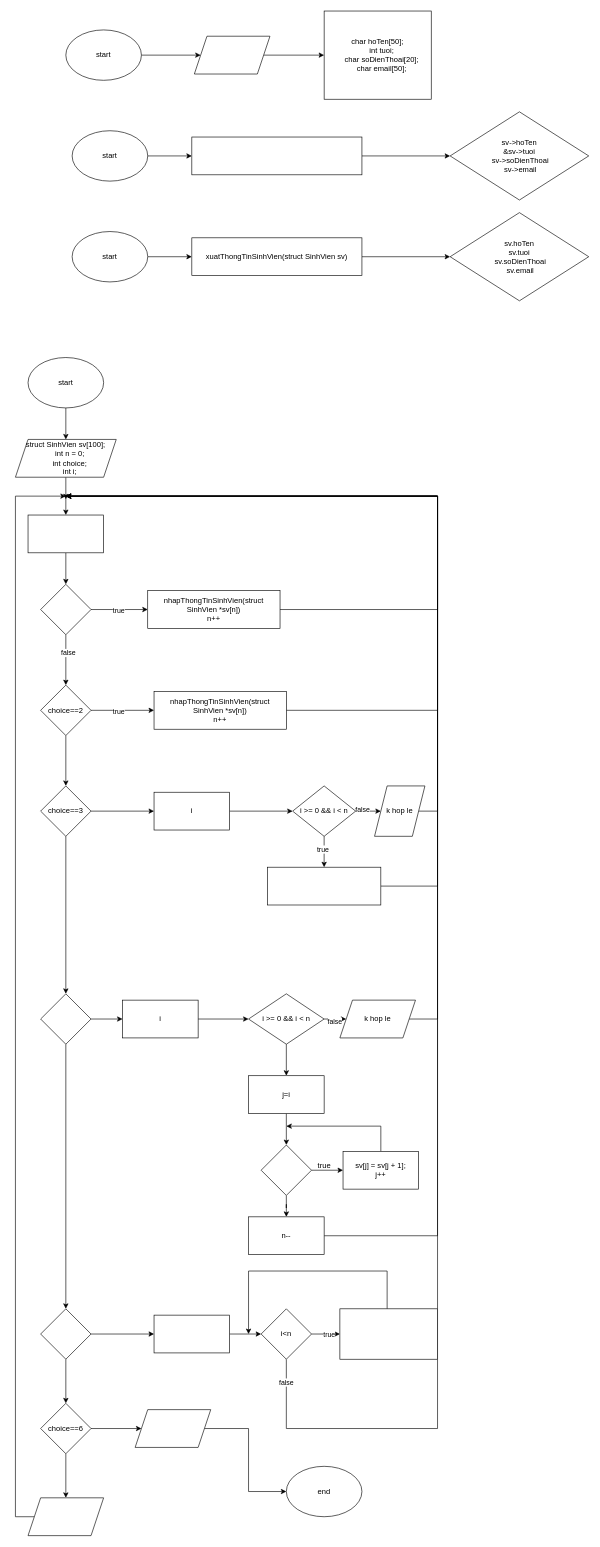
The diagram is 600 pixels wide and 1547 high, and some of its shapes have lost their labels. Here are the shapes that lost their labels. From the top down, the centre of each, then its label:
At point 232,55: "struct SinhVien".
At point 276,155: "nhapThongTinSinhVien(struct SinhVien *sv)".
At point 65,533: "choice".
At point 65,609: "choice==1".
At point 324,886: "nhapThongTinSinhVien(struct SinhVien *sv[n])".
At point 65,1018: "choice==4".
At point 286,1169: "j < n - 1;".
At point 65,1333: "choice==5".
At point 191,1333: "i=0".
At point 388,1333: "xuatThongTinSinhVien(sv[i])".
At point 173,1428: "thoat".
At point 65,1516: "nhap lai".
